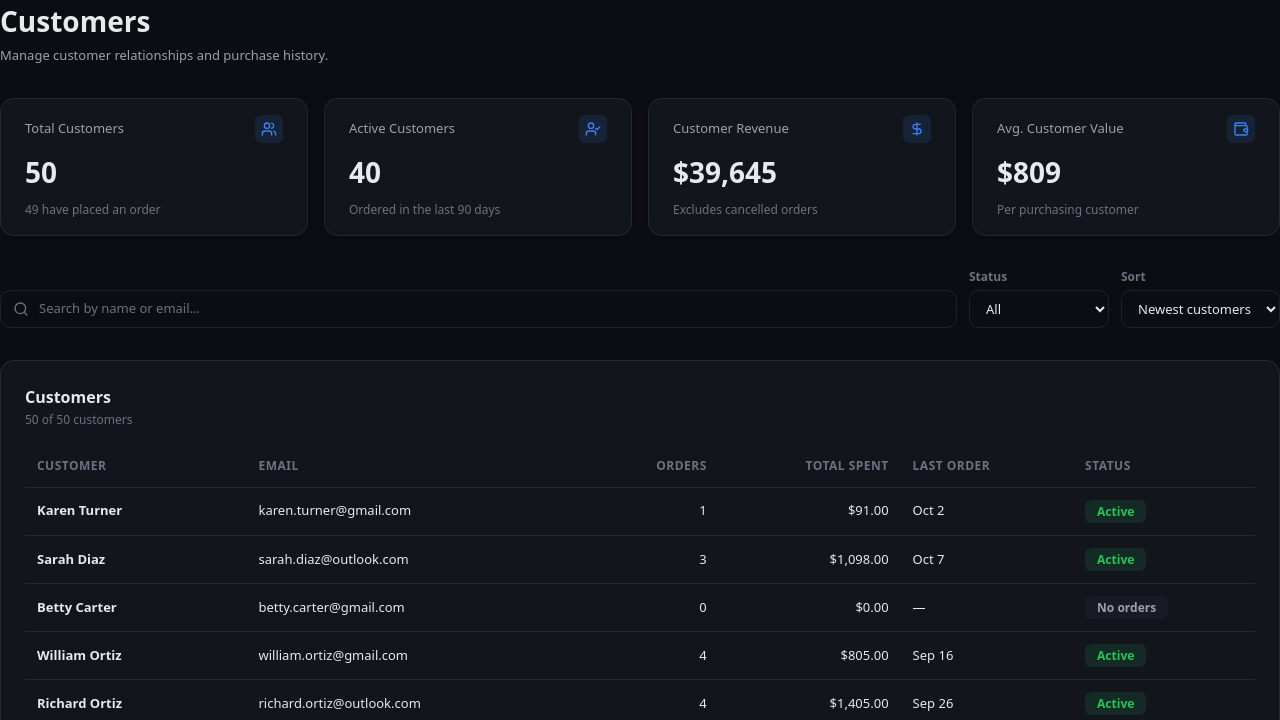
Scenario: Customers page › shows Clear filters only when filters are active, and resets everything
The width and height of the screenshot is (1280, 720).
Expected: the button "Clear filters" is not shown
Type "Sarah Bennett" into the search field named "search customers" at (490, 309), box [37,298,944,319]
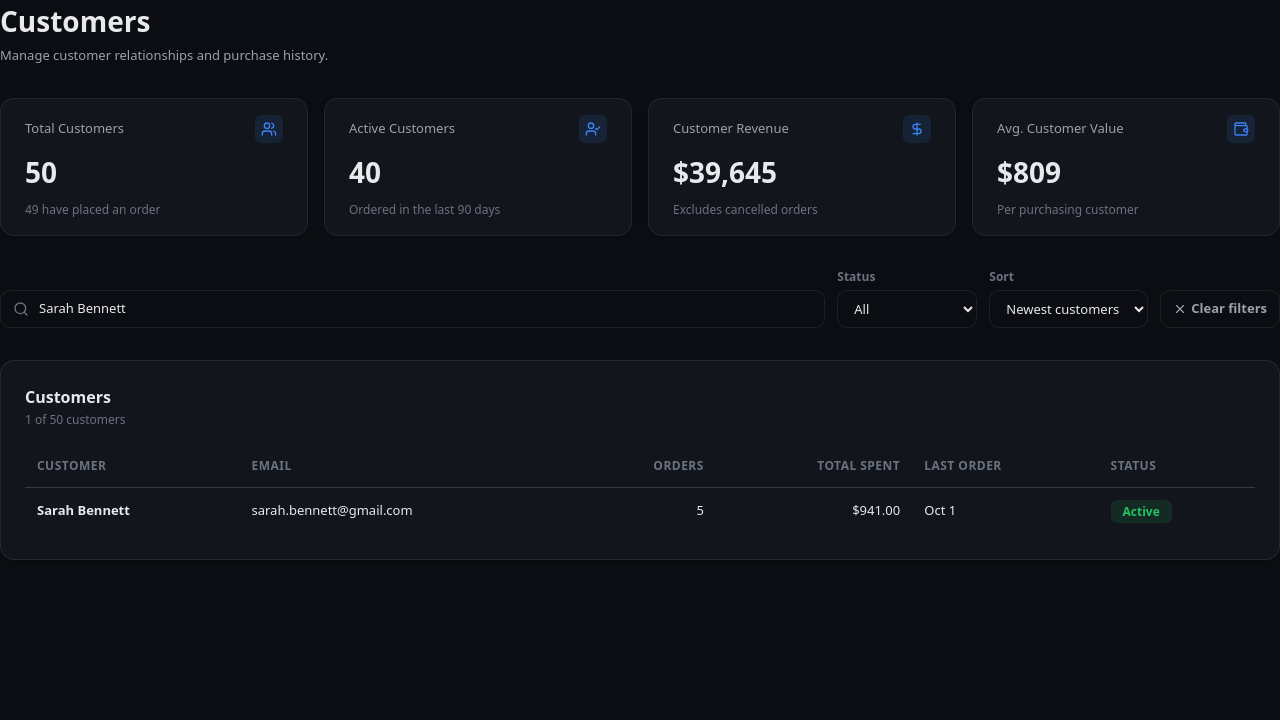
Select "Active" in the dropdown labelled "Status" at (907, 308), box [837,290,977,328]
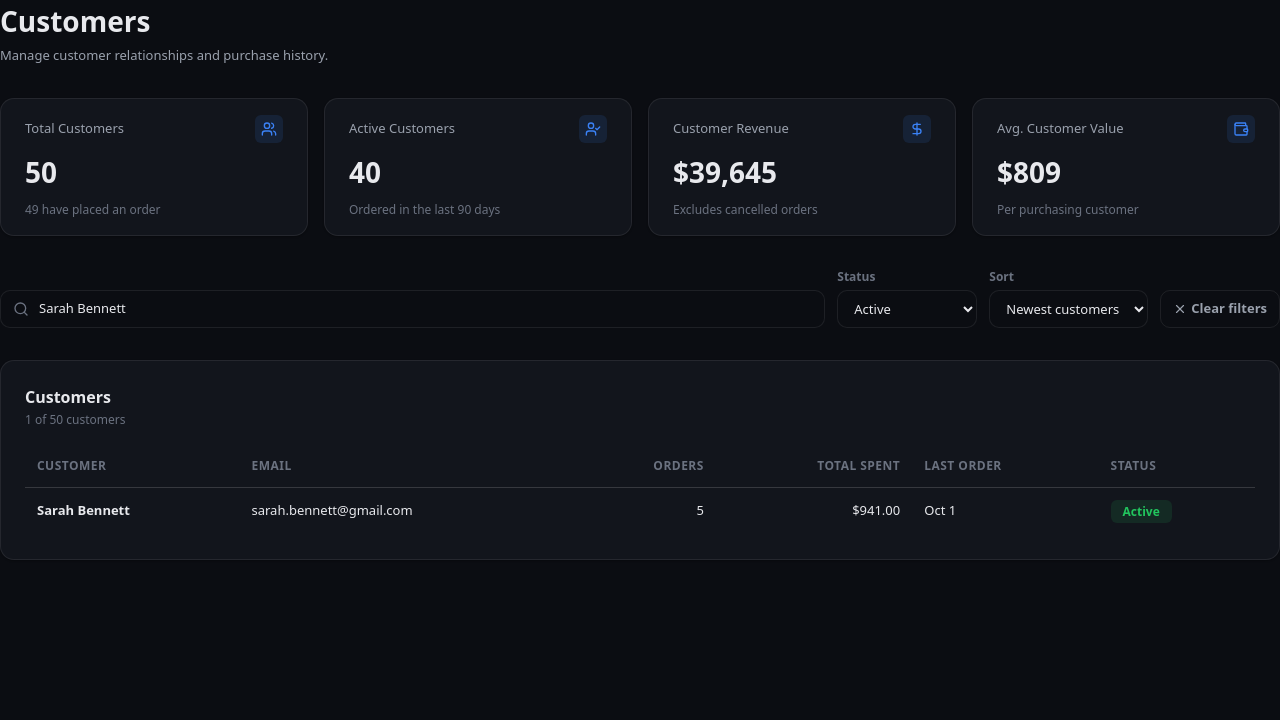
Select "Highest spend" in the dropdown labelled "Sort" at (1069, 308), box [989,290,1148,328]
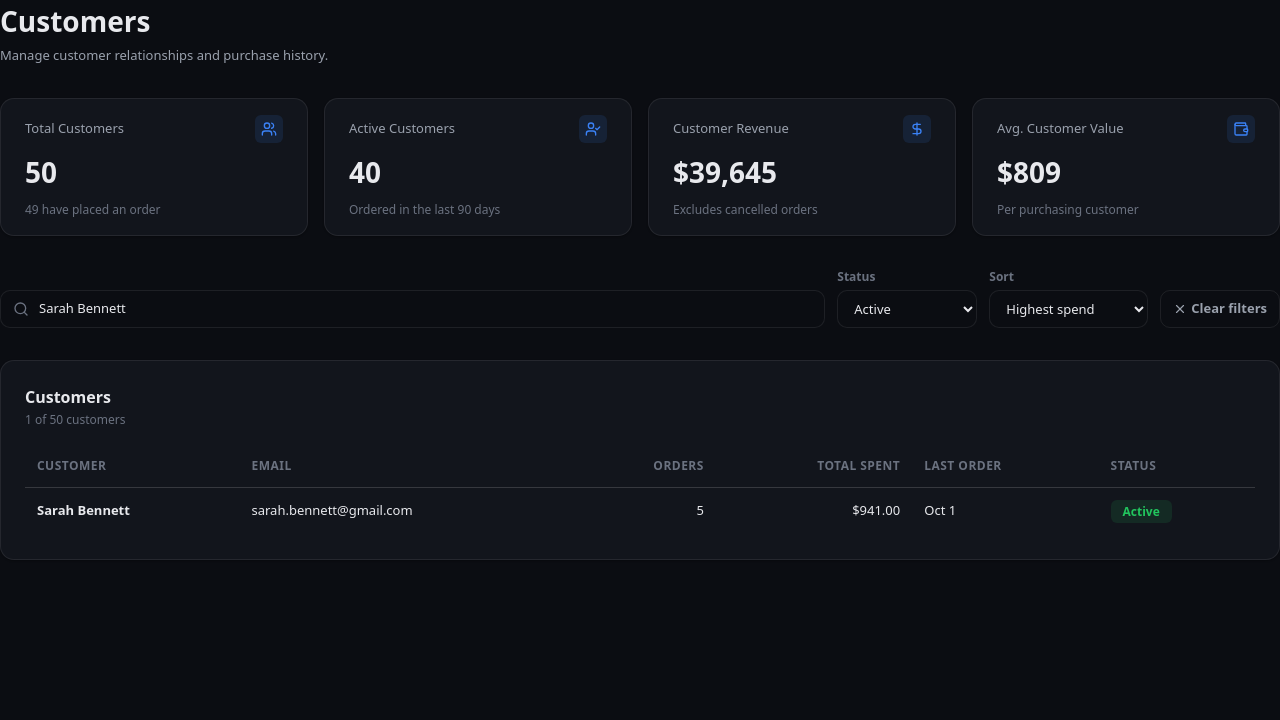
Click the button "Clear filters" at (1220, 308), box [1160,290,1279,328]
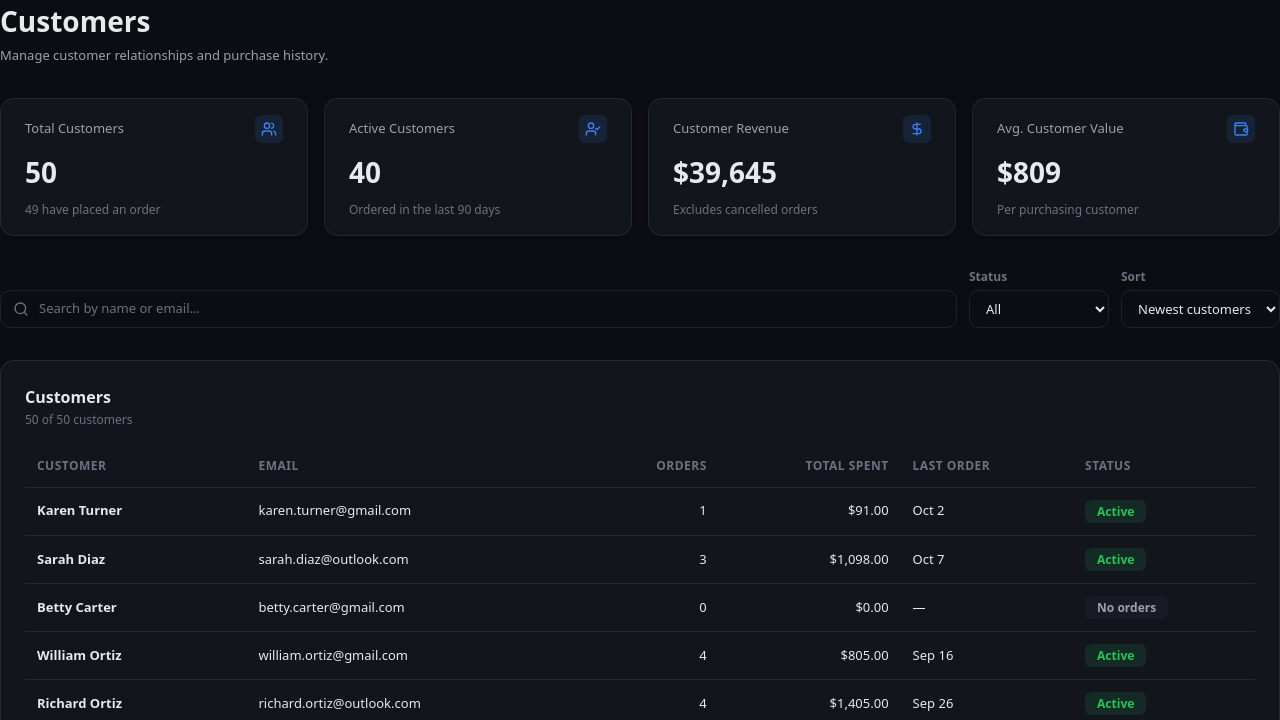
Now the search field named "search customers" is empty, box [37,298,944,319]
Now the number of buttons named "View customer " is 10
Now the button "Clear filters" is gone
